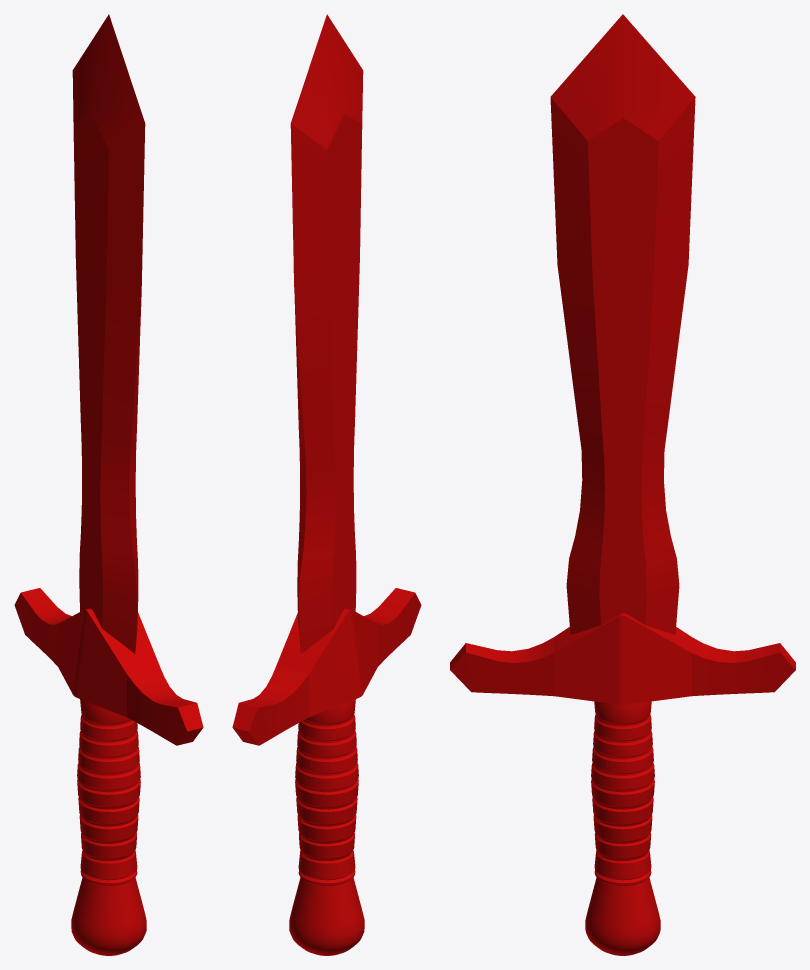
The model's file is IronSword.FBX.
3 renders of one model, left to right at view 1: azimuth 30°, elevation 25°; view 2: azimuth 150°, elevation 25°; view 3: azimuth 270°, elevation 25°, orthographic.
Parts seen in each view (by area): view 1: Sword001; view 2: Sword001; view 3: Sword001.
Part boxes in pixels (<box>): Sword001: <box>14,14,203,955</box>; Sword001: <box>232,14,421,955</box>; Sword001: <box>450,14,795,955</box>.
Bounding box in the file's own units: 1.52 × 19.84 × 6.65.
